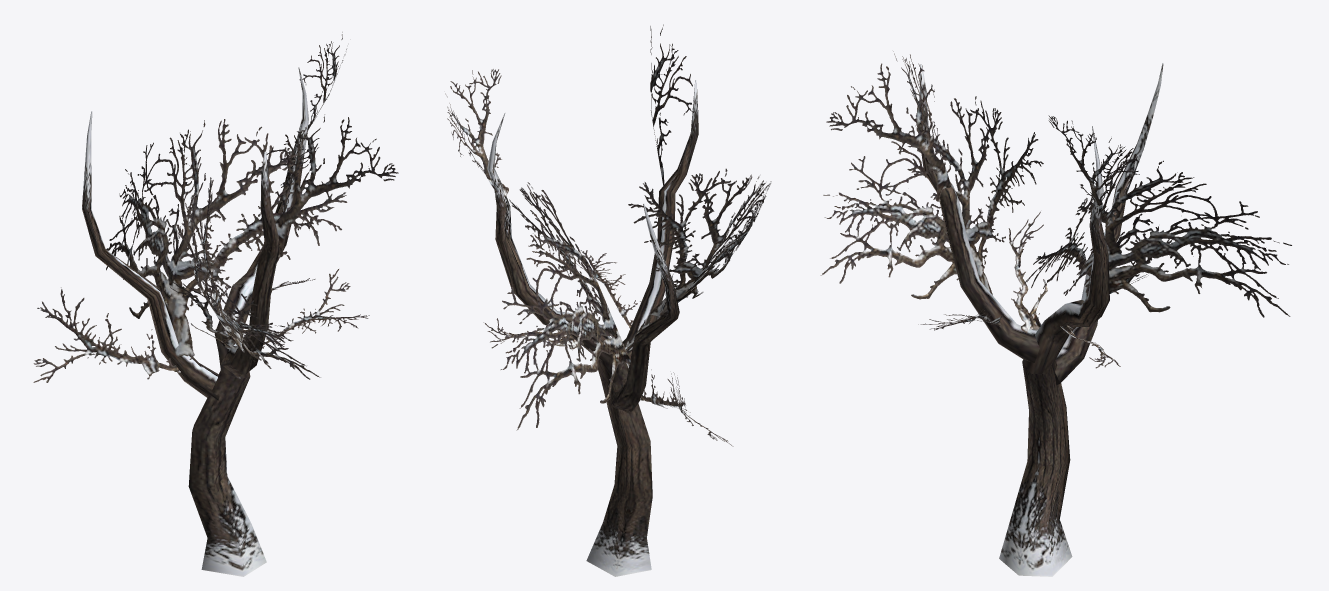
Rendered from ColdRegion_Snoetree.FBX.
3 renders of one model, left to right at view 1: azimuth 30°, elevation 25°; view 2: azimuth 150°, elevation 25°; view 3: azimuth 270°, elevation 25°, orthographic. The views are drawn at different scales.
Visible parts, largest first — view 1: ColdRegion_Snoetree; view 2: ColdRegion_Snoetree; view 3: ColdRegion_Snoetree.
Part boxes in pixels (left/top/right/bottom): ColdRegion_Snoetree: left=33, top=32, right=398, bottom=576; ColdRegion_Snoetree: left=445, top=24, right=771, bottom=576; ColdRegion_Snoetree: left=820, top=51, right=1291, bottom=576.
Bounding box in the file's own units: 178 × 229 × 272.
1 material, 1 textured.
